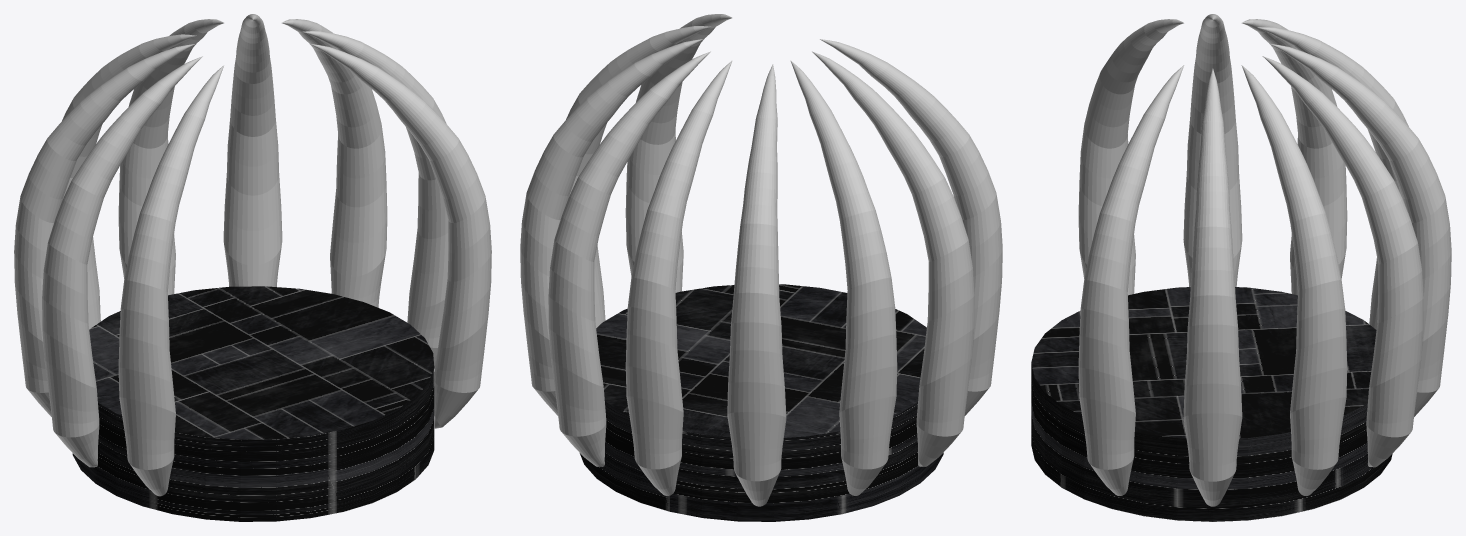
Rendered from Coliseo.fbx.
The picture shows the model from 3 angles, left to right: view 1: azimuth 30°, elevation 25°; view 2: azimuth 150°, elevation 25°; view 3: azimuth 270°, elevation 25°; orthographic projection.
Visible parts, largest first — view 1: Piso, Hueso.013, Hueso.003, Hueso.009, Hueso.008, Hueso.006, Hueso.011, Hueso, Hueso.004, Hueso.012; view 2: Piso, Hueso.012, Hueso.004, Hueso.011, Hueso.008, Hueso.003, Hueso.006, Hueso.013, Hueso.009, Hueso; view 3: Piso, Hueso, Hueso.009, Hueso.006, Hueso.008, Hueso.004, Hueso.013, Hueso.003, Hueso.011, Hueso.012.
Part boxes in pixels (x1,y1,x2,y2): Piso: (72, 286, 434, 521); Hueso.013: (118, 65, 224, 496); Hueso.003: (42, 56, 202, 467); Hueso.009: (310, 44, 491, 428); Hueso.008: (223, 14, 282, 286); Hueso.006: (282, 19, 387, 307); Hueso.011: (14, 44, 195, 416); Hueso: (303, 31, 448, 368); Hueso.004: (118, 19, 223, 295); Hueso.012: (62, 34, 196, 329); Piso: (579, 284, 943, 521); Hueso.012: (727, 64, 786, 506); Hueso.004: (625, 60, 732, 495); Hueso.011: (790, 60, 897, 495); Hueso.008: (548, 51, 710, 466); Hueso.003: (812, 51, 974, 466); Hueso.006: (520, 39, 703, 415); Hueso.013: (819, 39, 1002, 415); Hueso.009: (625, 14, 732, 292); Hueso: (566, 26, 710, 327); Piso: (1031, 287, 1392, 521); Hueso: (1183, 68, 1242, 506); Hueso.009: (1078, 65, 1184, 495); Hueso.006: (1241, 65, 1347, 495); Hueso.008: (1262, 56, 1423, 467); Hueso.004: (1270, 44, 1451, 416); Hueso.013: (1078, 19, 1183, 295); Hueso.003: (1183, 14, 1242, 286); Hueso.011: (1242, 19, 1347, 295); Hueso.012: (1257, 27, 1408, 329).
Bounding box in the file's own units: 5258 × 4875 × 4629.
